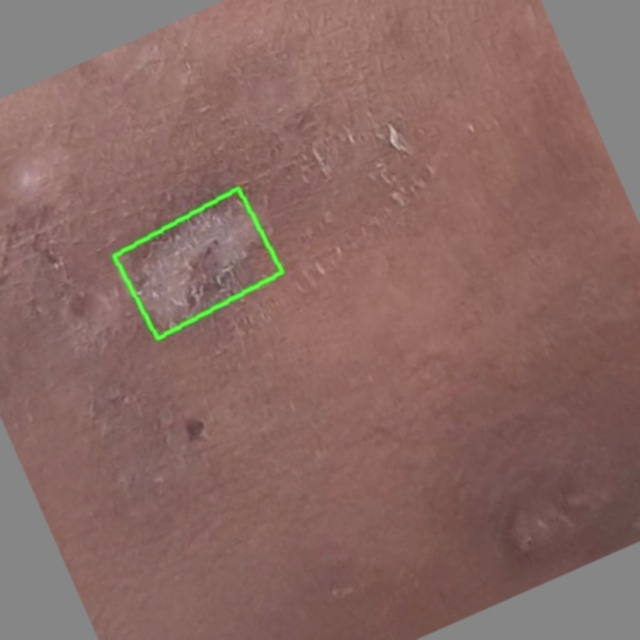Eczema: (114, 189, 282, 338)
